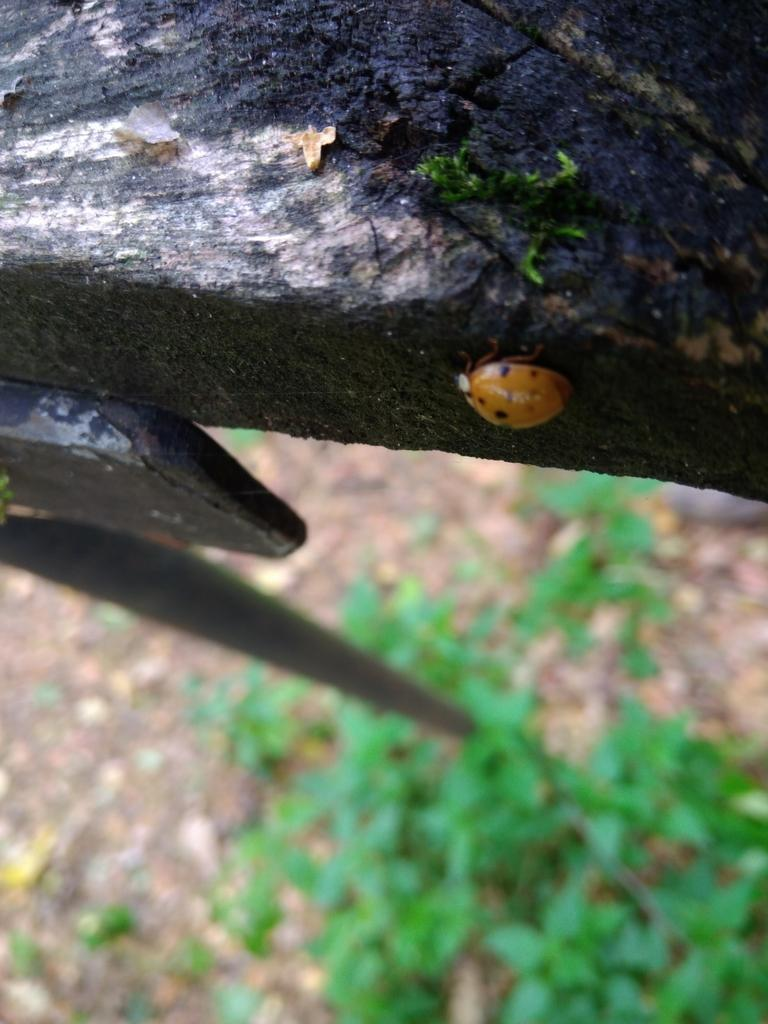ladybug: (448, 332, 579, 434)
